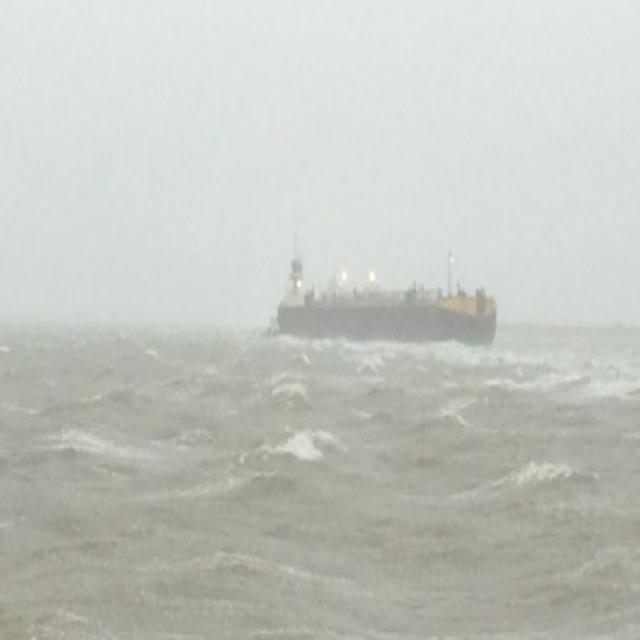cargoship: (276, 238, 498, 352)
